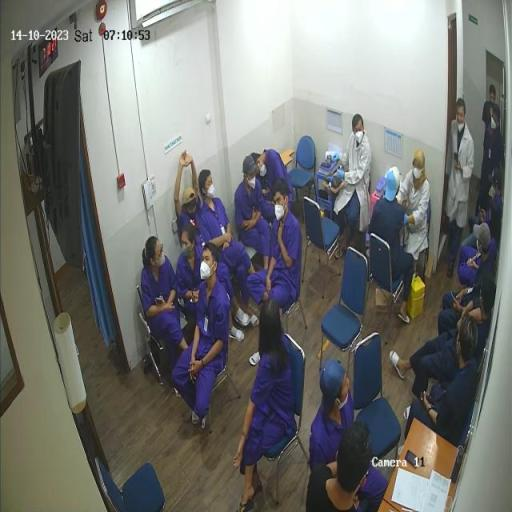person: (392, 277, 497, 420), (175, 152, 250, 342), (237, 300, 296, 512), (310, 358, 390, 512), (407, 316, 481, 461), (173, 244, 229, 421), (200, 169, 265, 319), (141, 236, 194, 398), (249, 183, 304, 322), (440, 223, 492, 340), (307, 426, 372, 512), (445, 100, 475, 281), (337, 116, 372, 260), (397, 150, 432, 280), (237, 157, 271, 272), (461, 202, 502, 286), (178, 223, 207, 318), (254, 152, 295, 215), (472, 171, 505, 243), (483, 85, 501, 179)
